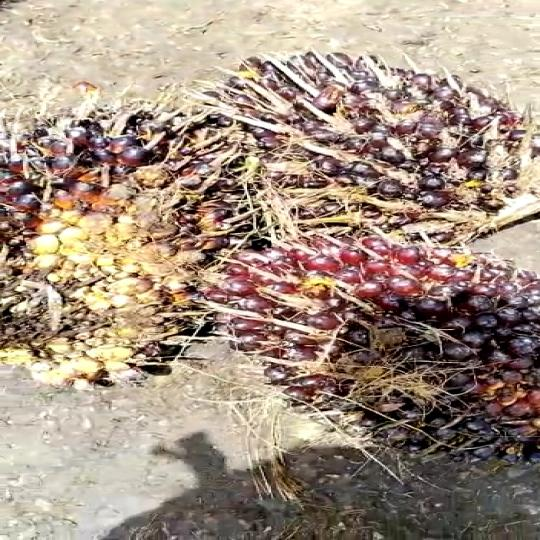kurang masak: (214, 226, 540, 474), (194, 49, 540, 246), (0, 89, 209, 412)
